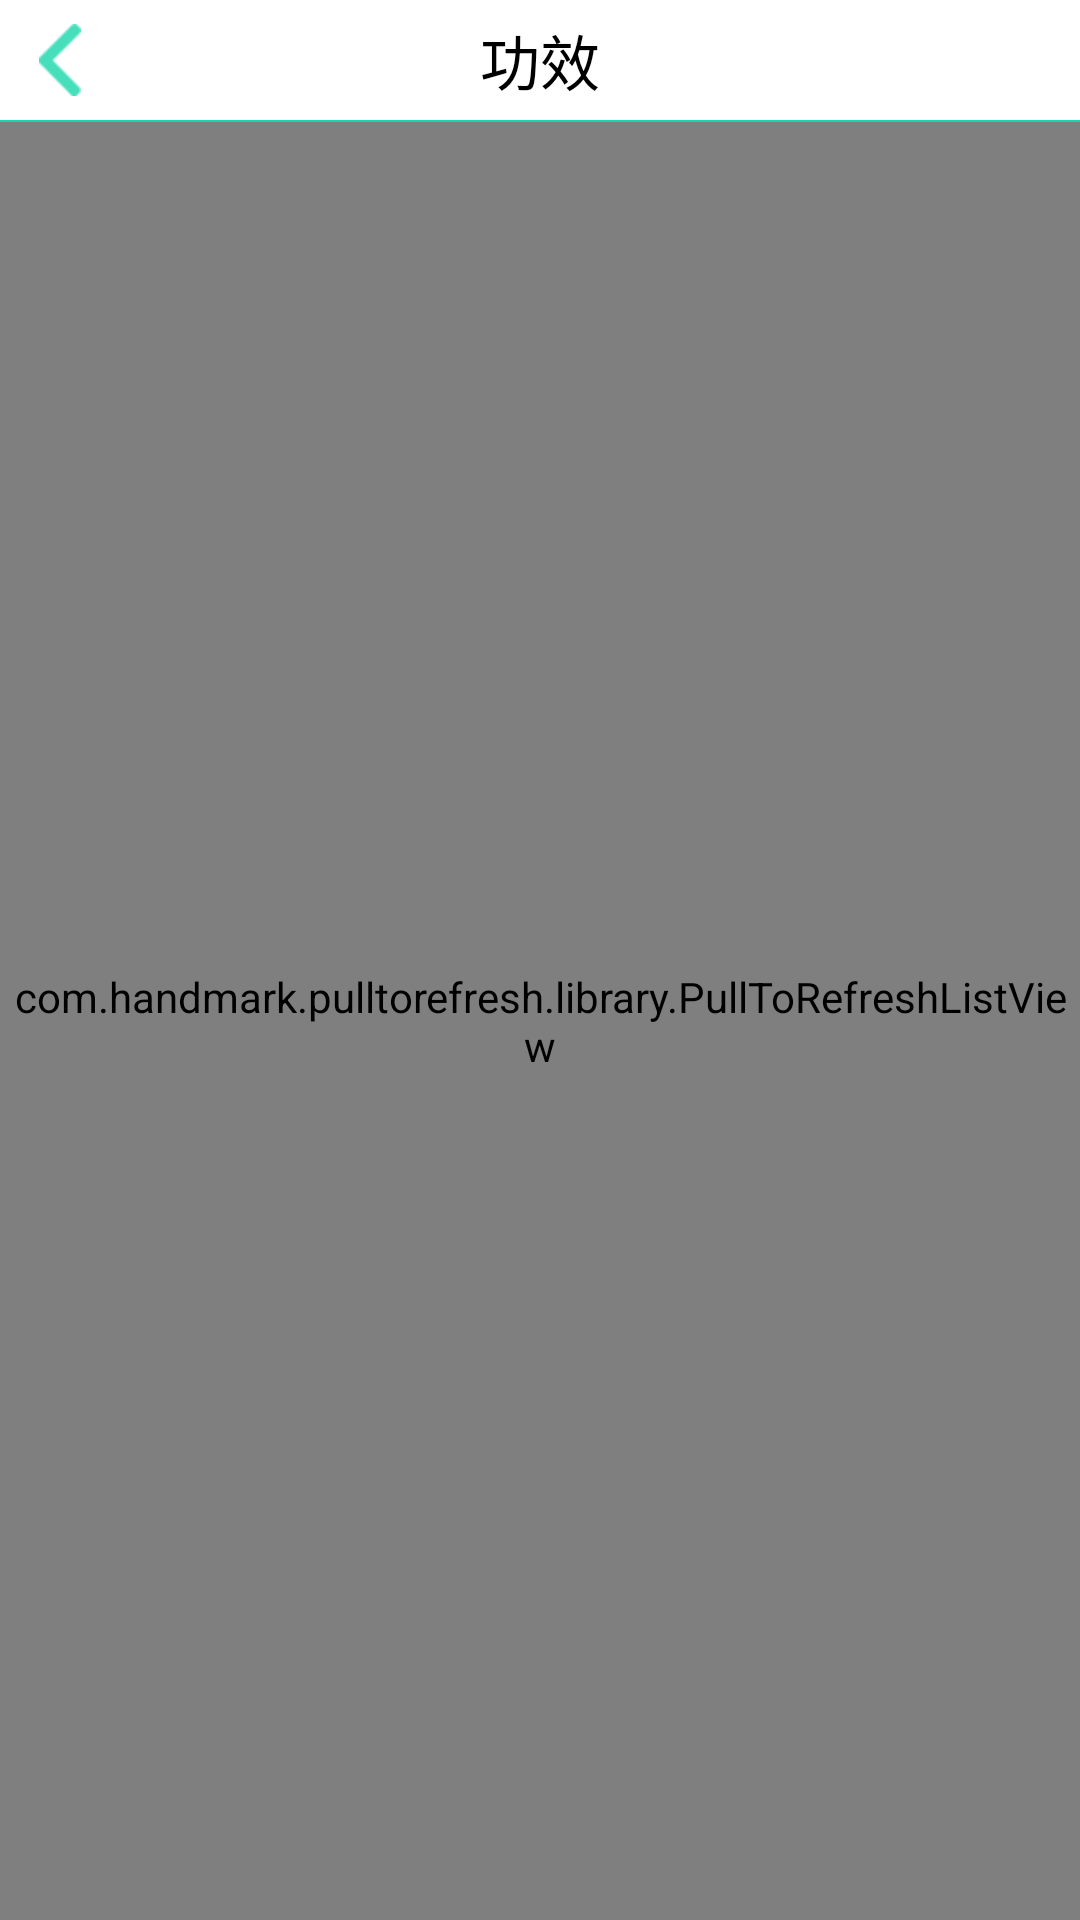

Icons on this 1080x1920 Android screen, each with its box as (left=x1, top=y1, right=x2, bottom=y2):
back: (left=39, top=24, right=81, bottom=96)
